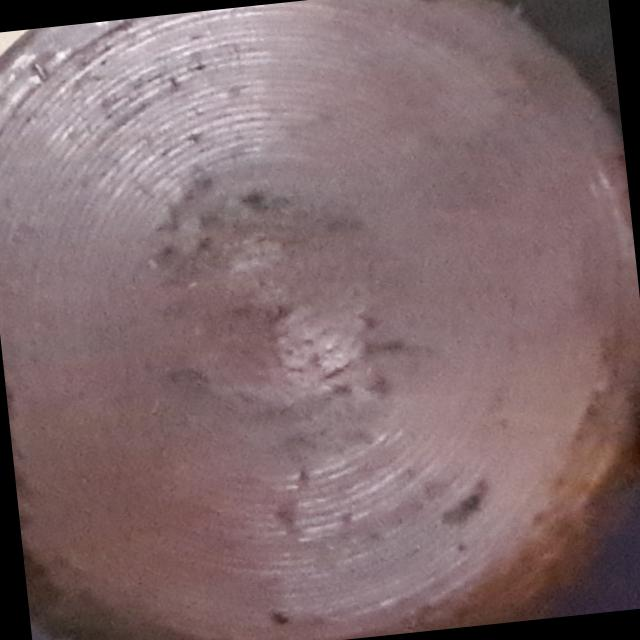planson: (0, 0, 640, 640)
